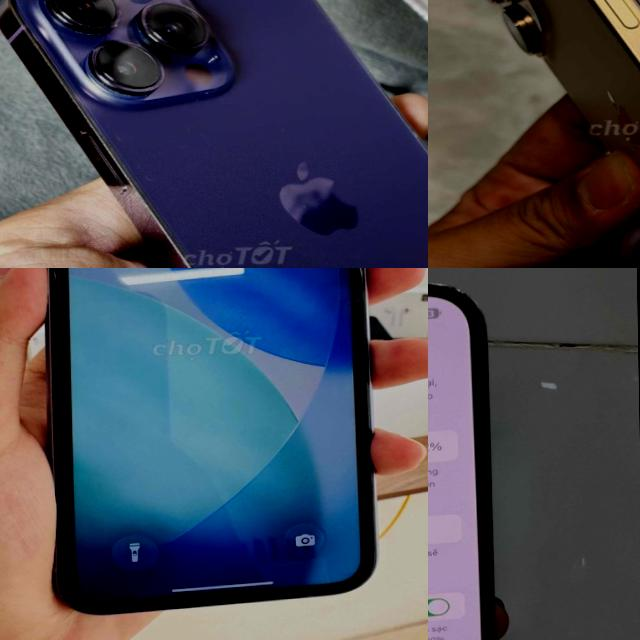screen_defect: (428, 285, 469, 640)
